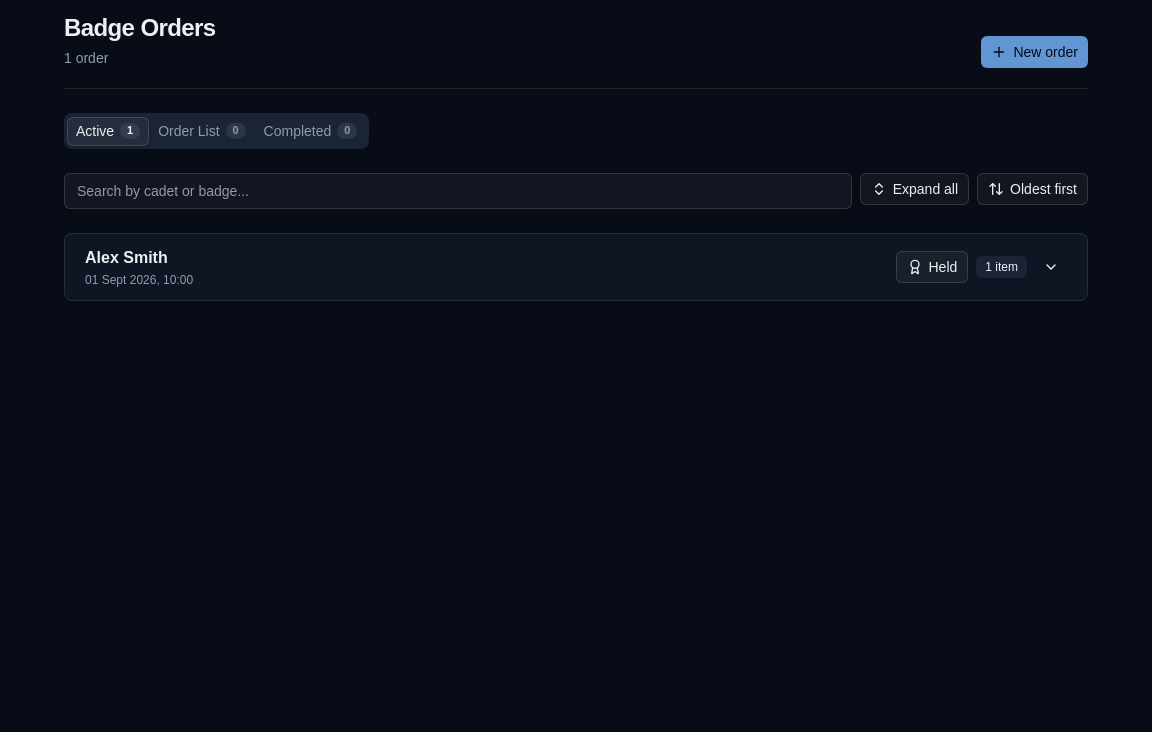
Test: Blue Flying stages › says which stage is missing when Blue Flying isn't held
Expected: the link "Alex Smith" is shown, [85, 246, 168, 270]
Click the button named "Expand order for Alex Smith" at (1051, 267), box [1035, 251, 1067, 283]
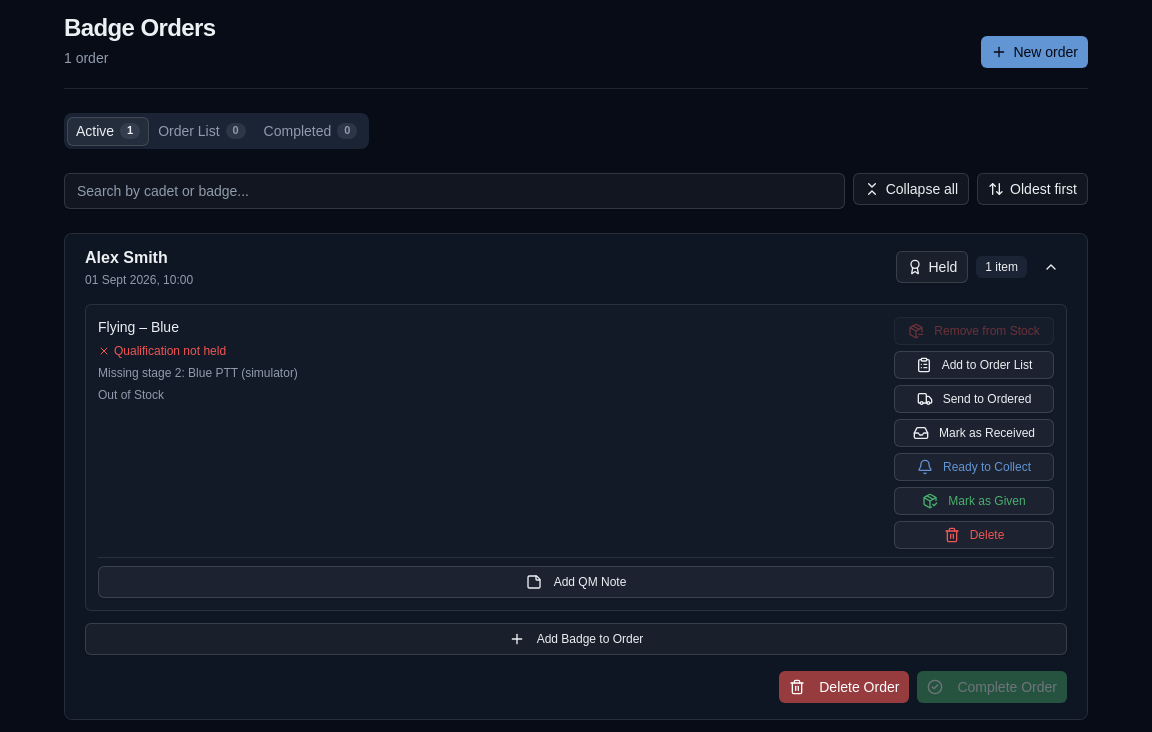
Result: the text "Missing stage 2: Blue PTT (simulator)" is shown at [98, 366, 298, 380]
